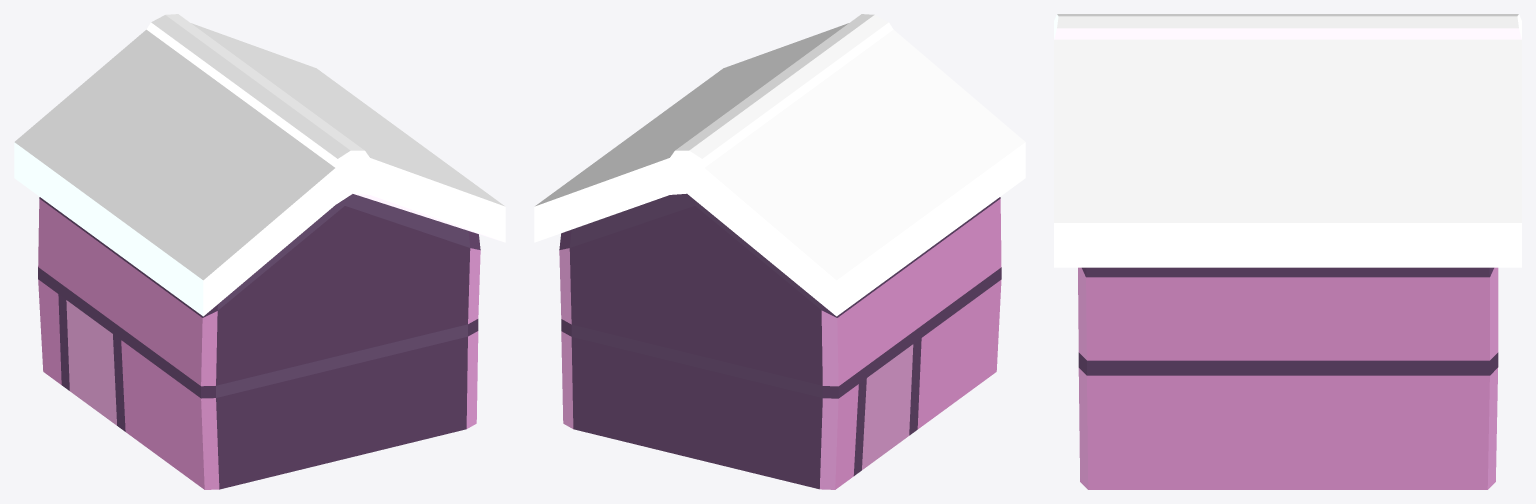
File: house03.fbx
The picture shows the model from 3 angles, left to right: view 1: azimuth 30°, elevation 25°; view 2: azimuth 150°, elevation 25°; view 3: azimuth 270°, elevation 25°; orthographic projection. The views are drawn at different scales.
Visible parts, largest first — view 1: houseW3_01.001, houseW3_01.002, houseW3_01.003, houseW3_01, houseW3_01.005, houseW3_01.004; view 2: houseW3_01.001, houseW3_01.002, houseW3_01.003, houseW3_01, houseW3_01.005, houseW3_01.004; view 3: houseW3_01.002, houseW3_01, houseW3_01.003, houseW3_01.001, houseW3_01.005.
Boxes of the visible parts, x1,y1,x2,y2 form: houseW3_01.001: (38, 197, 480, 489); houseW3_01.002: (14, 14, 504, 280); houseW3_01.003: (14, 22, 505, 316); houseW3_01: (38, 199, 204, 489); houseW3_01.005: (66, 248, 480, 489); houseW3_01.004: (216, 194, 470, 397); houseW3_01.001: (559, 197, 1001, 489); houseW3_01.002: (535, 14, 1025, 280); houseW3_01.003: (534, 22, 1025, 316); houseW3_01: (835, 199, 1001, 489); houseW3_01.005: (559, 248, 913, 489); houseW3_01.004: (569, 193, 822, 397); houseW3_01.002: (1054, 14, 1521, 222); houseW3_01: (1086, 277, 1489, 489); houseW3_01.003: (1054, 14, 1521, 267); houseW3_01.001: (1078, 267, 1498, 375); houseW3_01.005: (1078, 267, 1498, 489).
Bounding box in the file's own units: 3.86 × 3.85 × 4.19.
